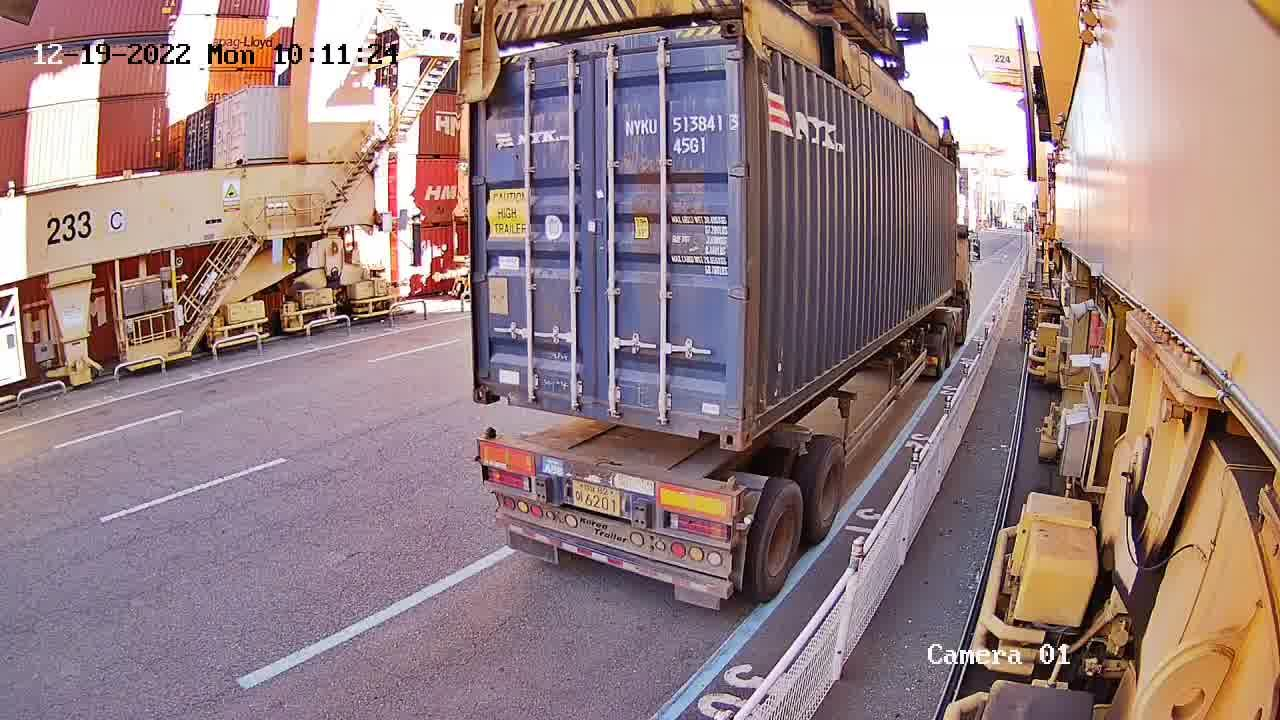Chassis: (478, 432, 744, 523)
Cone: (722, 472, 748, 516), (478, 424, 497, 441)
Hole_L: (739, 389, 769, 449), (473, 367, 515, 405)
Hole_R: (698, 399, 737, 449)
Tire: (754, 484, 804, 597), (811, 444, 847, 538)
